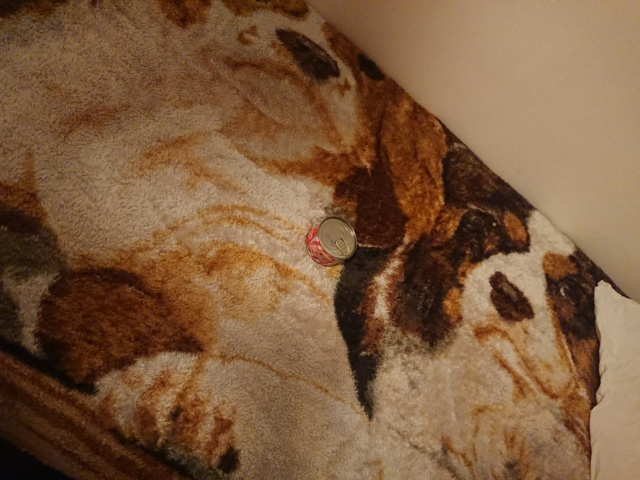Podravka Luncheon Meat 150g: (303, 214, 360, 269)
